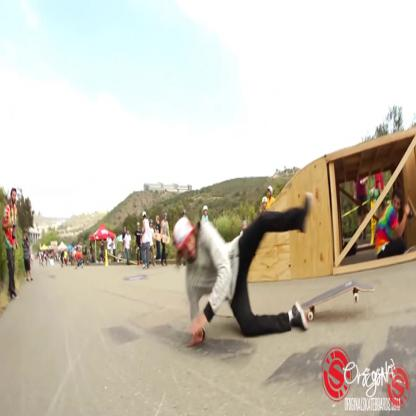Fall_Down: (171, 189, 314, 348)
